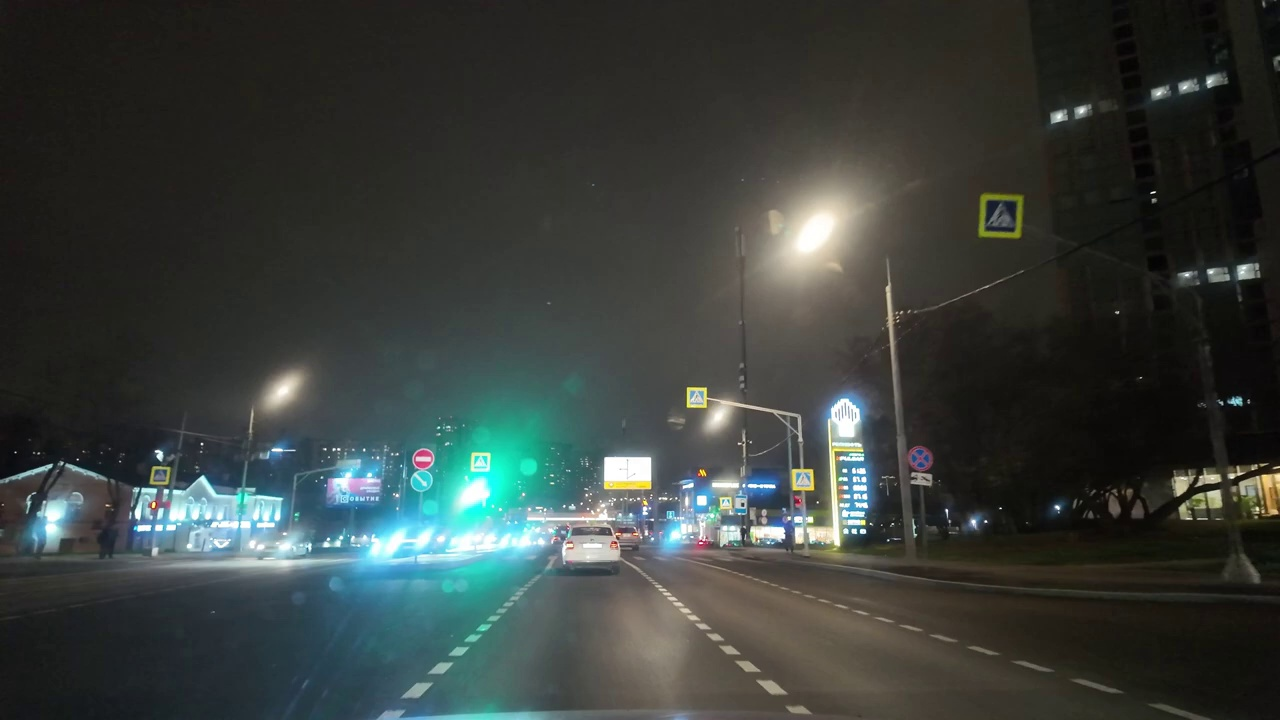acesa: (784, 203, 846, 265), (256, 369, 304, 419), (691, 391, 731, 436)
